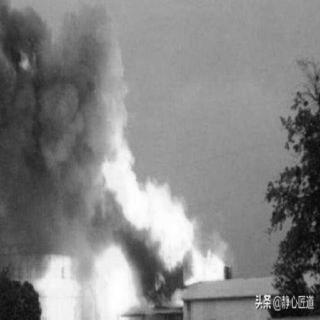Fire: (39, 158, 231, 318)
Smoke: (1, 5, 127, 243)
